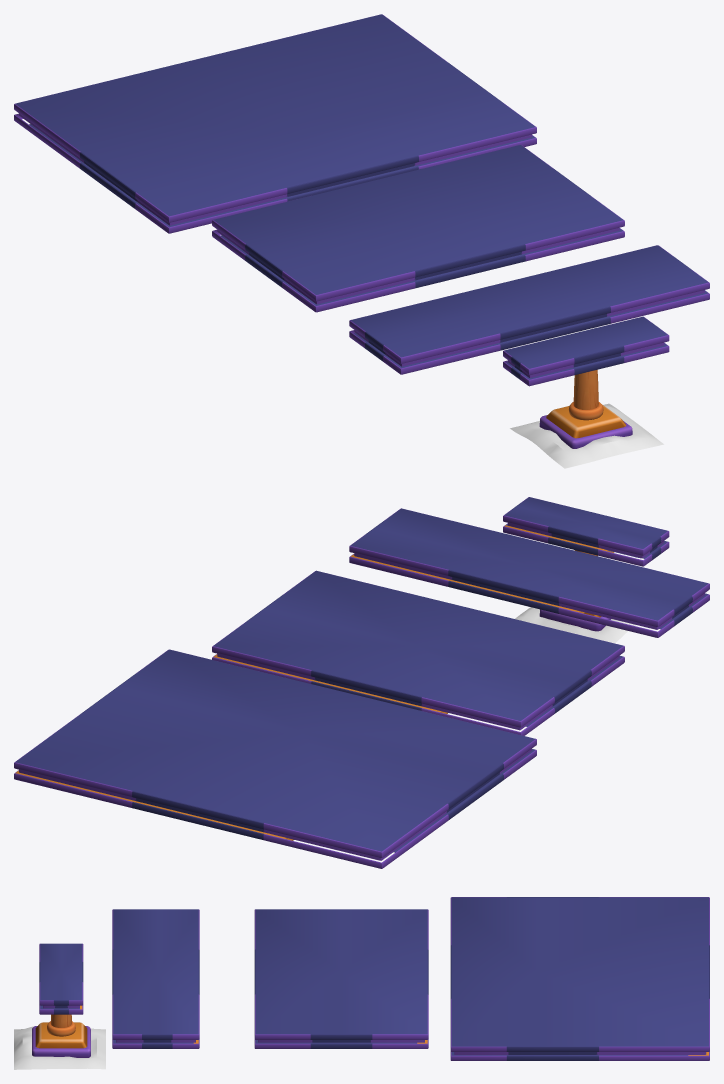
File: Table_All.fbx
3 views of the same model, one above another, from view 1: azimuth 30°, elevation 25°; view 2: azimuth 150°, elevation 25°; view 3: azimuth 270°, elevation 25° (orthographic). The views are drawn at different scales.
Visible parts, largest first — view 1: mdl_Table_01_5_2, mdl_Table_01_5_1, mdl_Table_01_5, mdl_Table_01_5_2_2, Plane, Gold, Wood, mdl_Table_01_9; view 2: mdl_Table_01_5_2, mdl_Table_01_5_1, mdl_Table_01_5, mdl_Table_01_5_2_2, Plane; view 3: mdl_Table_01_5_2, mdl_Table_01_5_1, mdl_Table_01_5, mdl_Table_01_5_2_2, Plane, Gold, mdl_Table_01_9.
Part boxes in pixels (x1,y1,x2,y2): mdl_Table_01_5_2: (14, 14, 536, 233); mdl_Table_01_5_1: (212, 144, 624, 312); mdl_Table_01_5: (349, 245, 709, 374); mdl_Table_01_5_2_2: (503, 316, 669, 386); Plane: (510, 403, 663, 468); Gold: (546, 404, 626, 438); Wood: (573, 369, 598, 409); mdl_Table_01_9: (539, 415, 632, 448); mdl_Table_01_5_2: (14, 649, 536, 868); mdl_Table_01_5_1: (212, 570, 624, 735); mdl_Table_01_5: (349, 508, 709, 637); mdl_Table_01_5_2_2: (503, 497, 669, 566); Plane: (515, 607, 635, 643); mdl_Table_01_5_2: (450, 897, 709, 1060); mdl_Table_01_5_1: (254, 909, 428, 1048); mdl_Table_01_5: (112, 909, 199, 1048); mdl_Table_01_5_2_2: (39, 943, 83, 1014); Plane: (14, 1026, 105, 1069); Gold: (35, 1022, 87, 1048); mdl_Table_01_9: (32, 1026, 90, 1057).
Size of the model in its own units: 810 by 195 by 1586.
5 materials, 5 textured.
